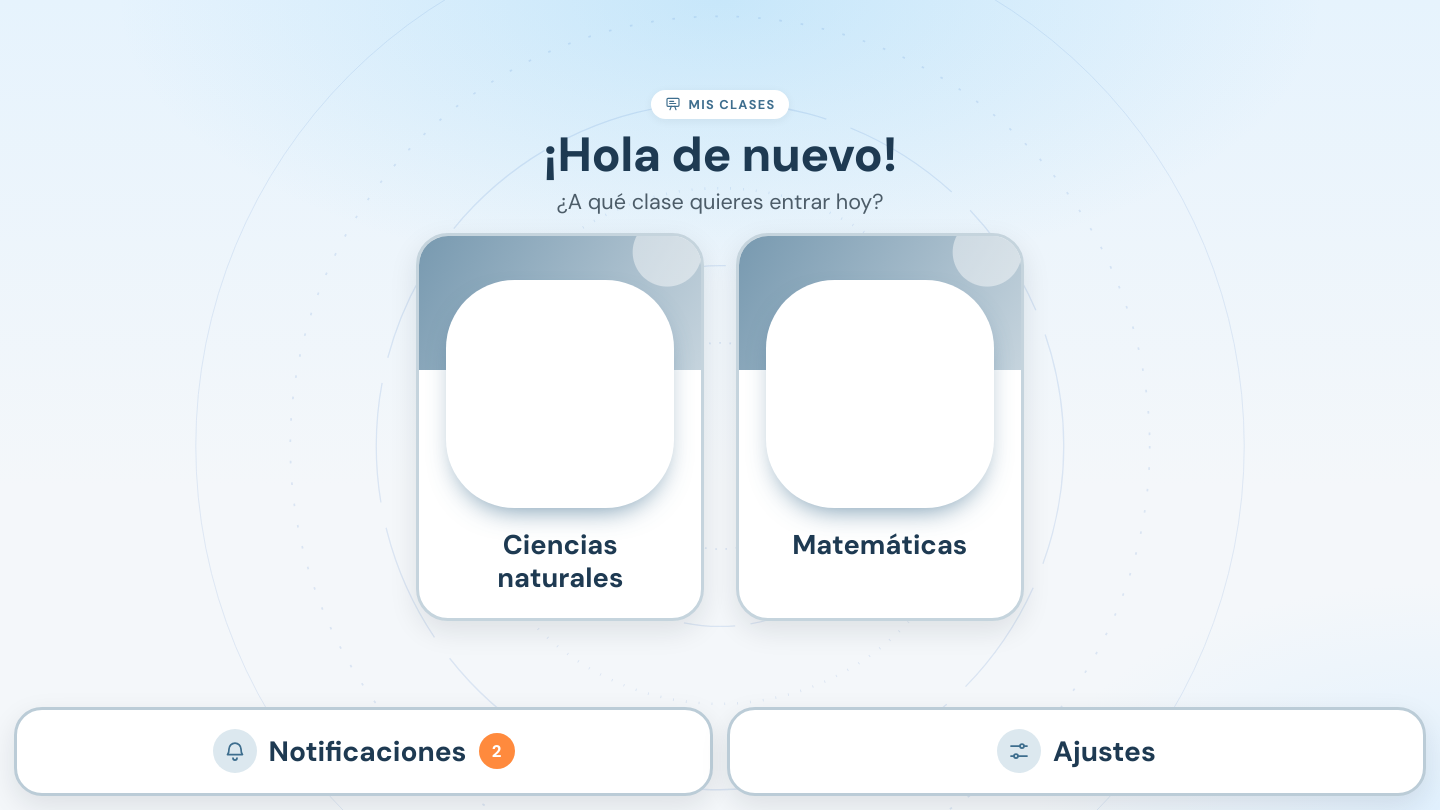
Test: the kid's home (HU-53) › has a big card per class, and on the bottom bar the tray (with how many are new) and Ajustes
Step 1. Click the button "Ciencias naturales" → click(560, 427), box [416,233,704,621]
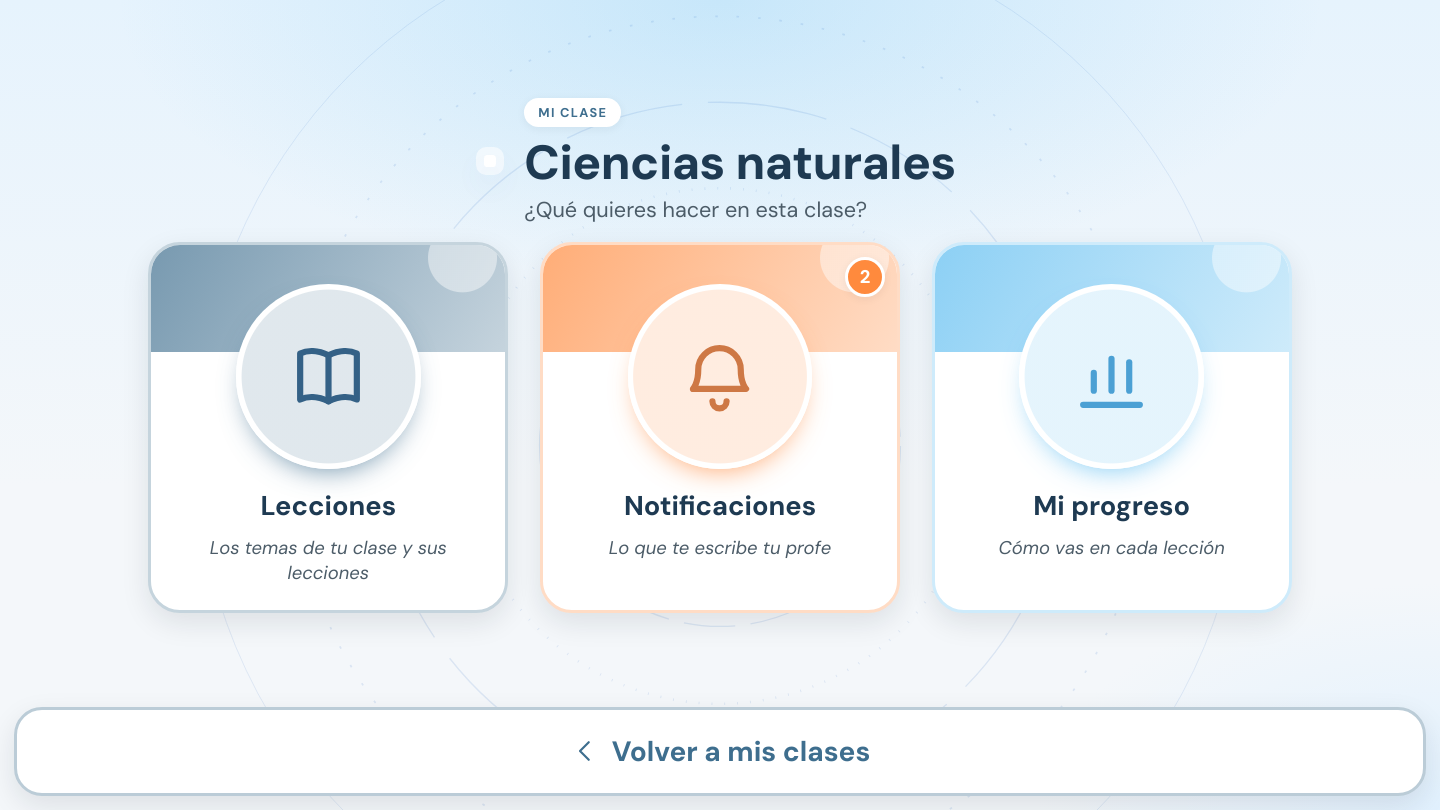
Result: the heading "Ciencias naturales" is shown at [524,138,956,190]
